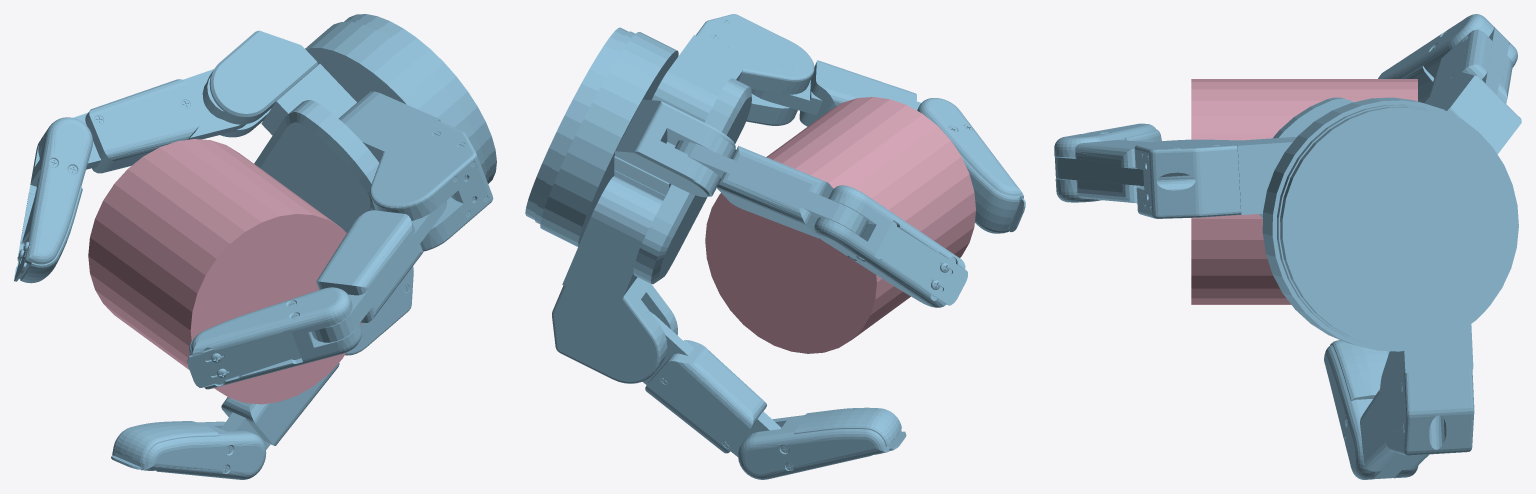
The picture shows the model from 3 angles, left to right: view 1: azimuth 30°, elevation 25°; view 2: azimuth 150°, elevation 25°; view 3: azimuth 270°, elevation 25°; orthographic projection. The views are drawn at different scales.
Parts seen in each view (by area): view 1: world, cylinder_medium.stl; view 2: world, cylinder_medium.stl; view 3: world, cylinder_medium.stl.
Boxes of the visible parts, <box> form: world: <box>14,14,496,479</box>; cylinder_medium.stl: <box>88,139,361,404</box>; world: <box>525,14,1025,479</box>; cylinder_medium.stl: <box>705,97,975,353</box>; world: <box>1054,14,1521,479</box>; cylinder_medium.stl: <box>1191,79,1417,304</box>.
Bounding box in the file's own units: 0.1988 × 0.1774 × 0.1652.
